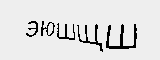Ш: (105, 23, 139, 51), (54, 22, 77, 41)
Щ: (76, 23, 105, 52)
Э: (22, 16, 43, 40)
Ю: (39, 20, 54, 41)
